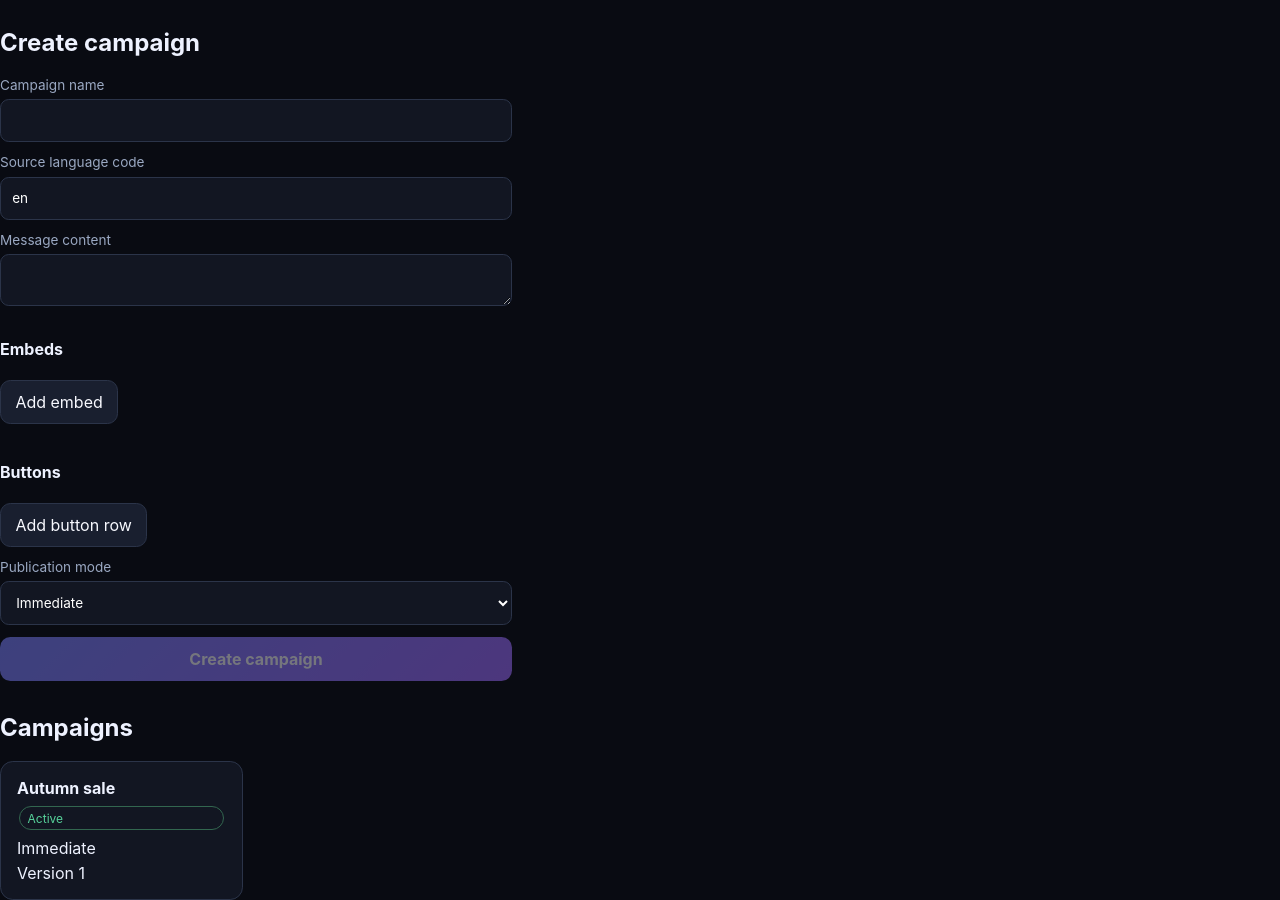
STAGE 09 campaign center › reads delivery history and checks + approves an approved variant
This screenshot has width=1280, height=900.
(page scrolled)
Click the button "Autumn sale Active Immediate Version 1": (122, 831) [0,761,243,899]
(page scrolled)
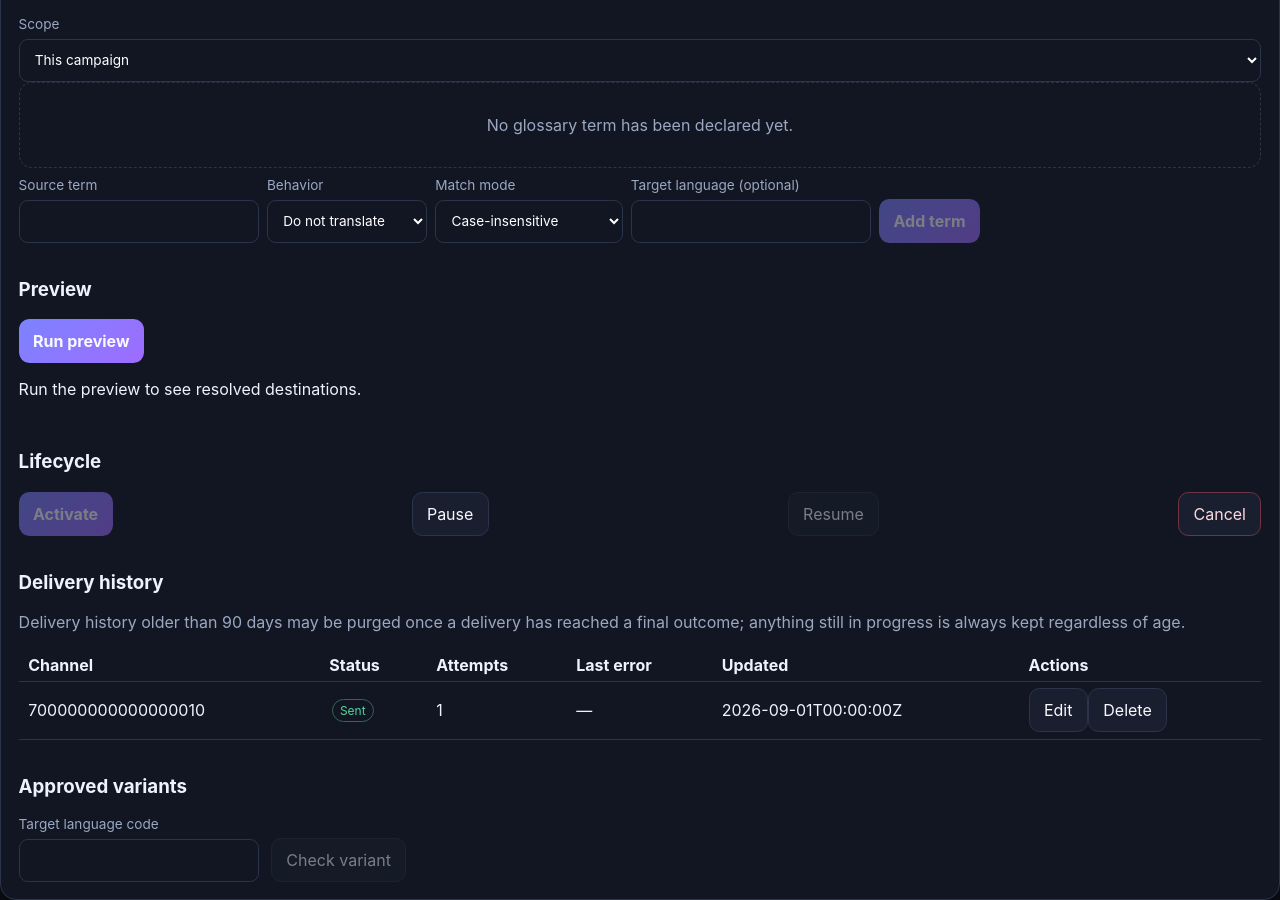
Expected: the text "Sent" is shown, [332,699,374,722]
In the field labelled "Target language code": (139, 860) [19,839,259,882], type "fr"
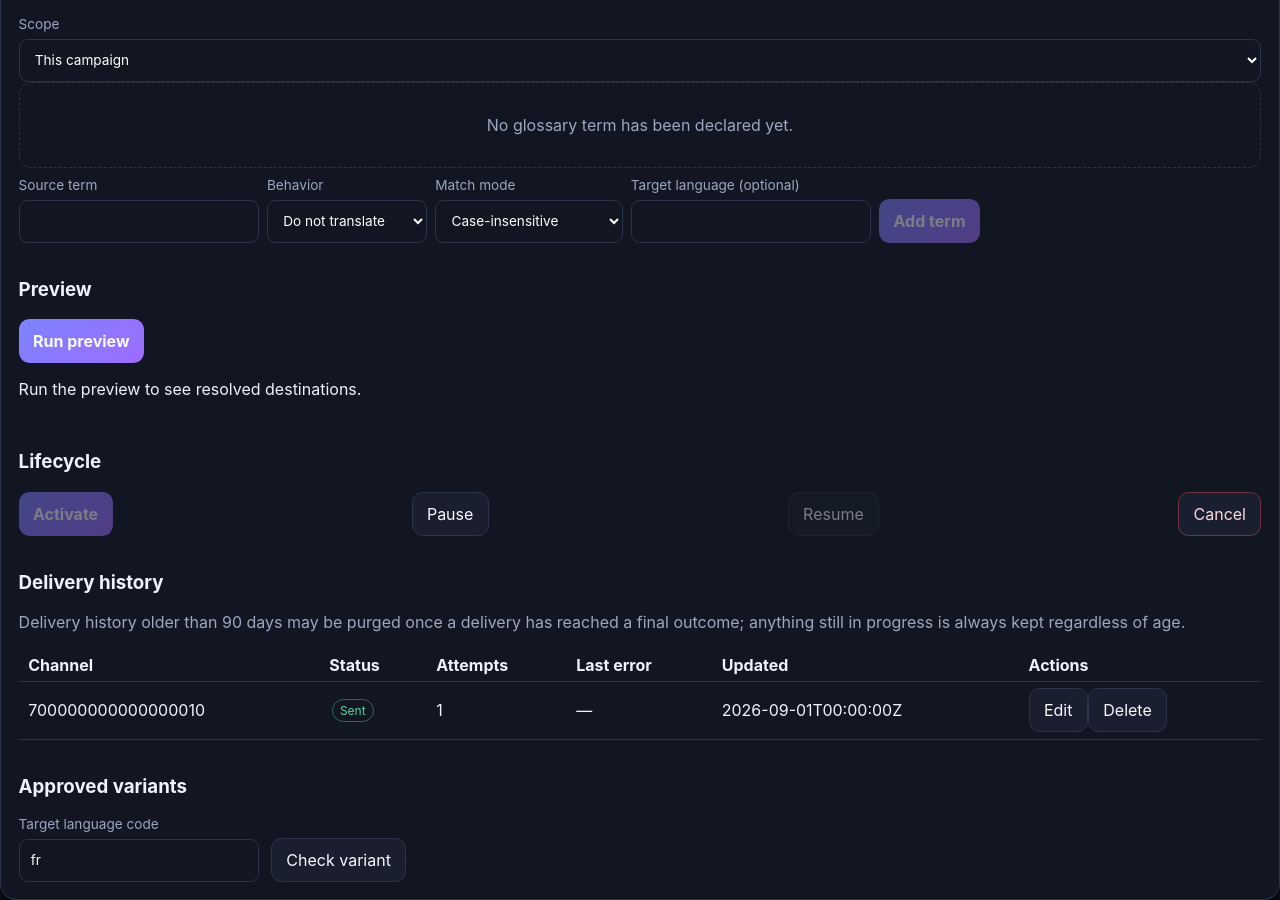
Click the button "Check variant": (339, 860) [271,838,406,882]
(page scrolled)
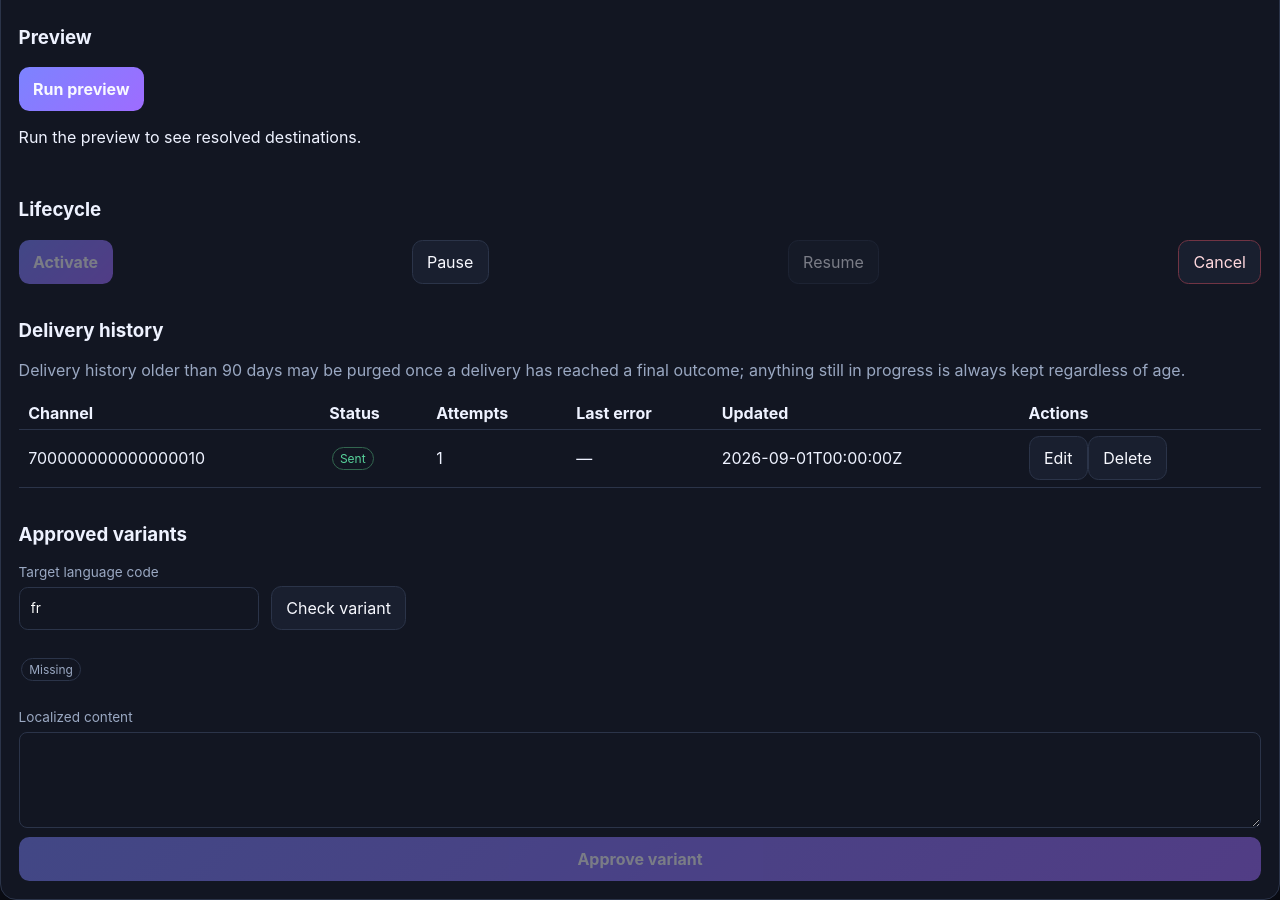
Expected: the text "Missing" is shown, [21,658,81,681]
In the text box labelled "Localized content": (640, 780) [19,732,1261,828], type "Bonjour à tous"
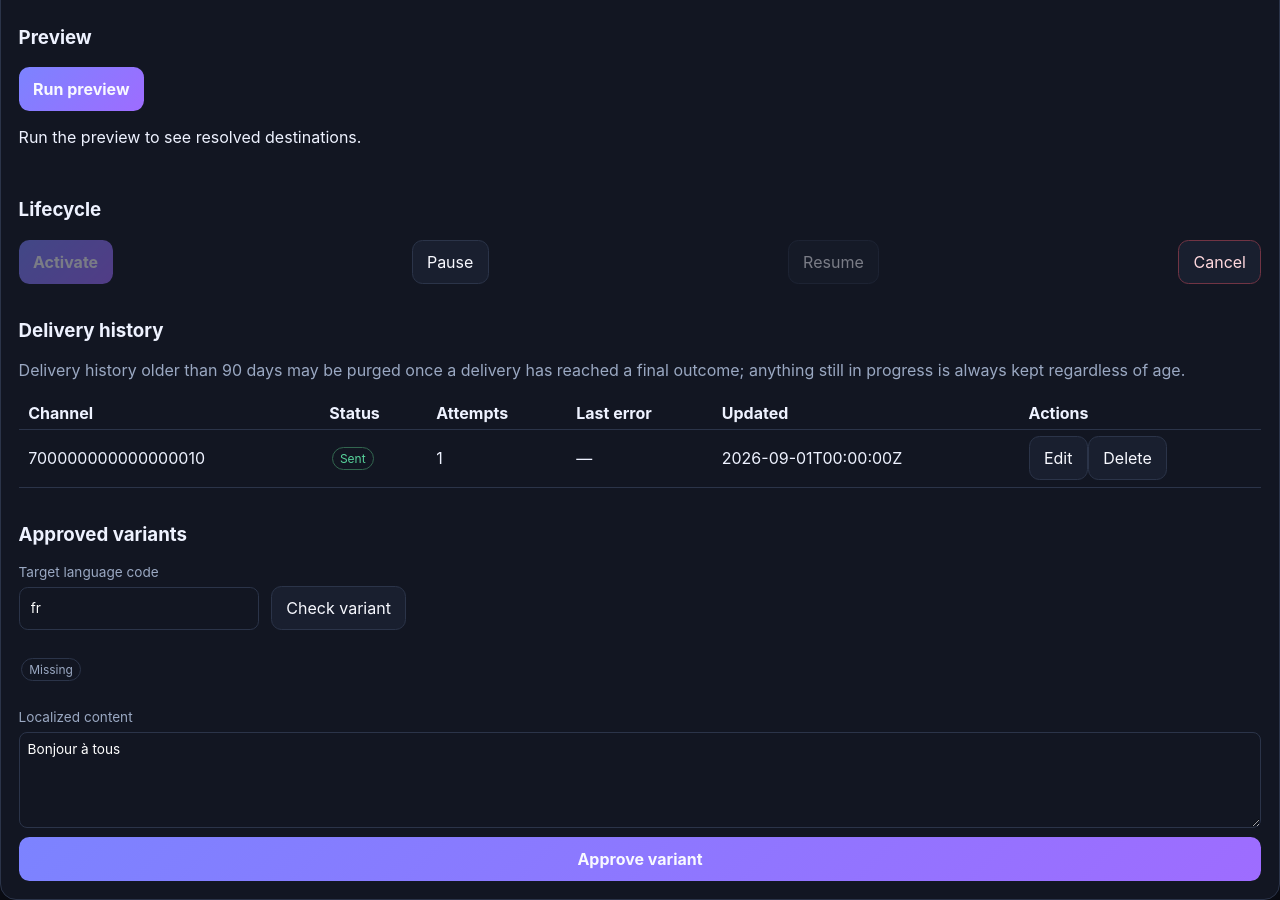
Click the button "Approve variant": (640, 859) [19,837,1261,881]
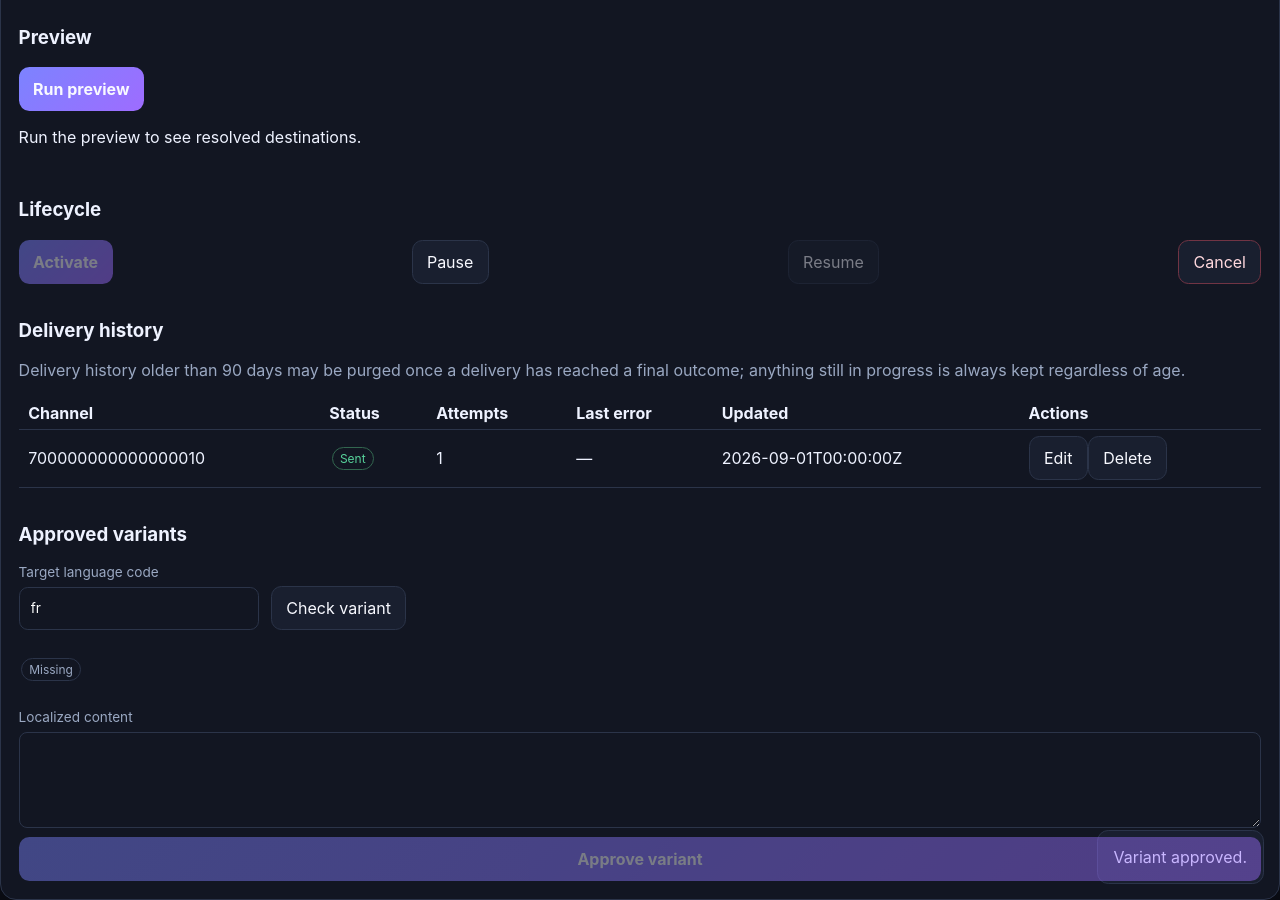
Expected: the text "Variant approved." is shown, [1096,830,1264,884]
